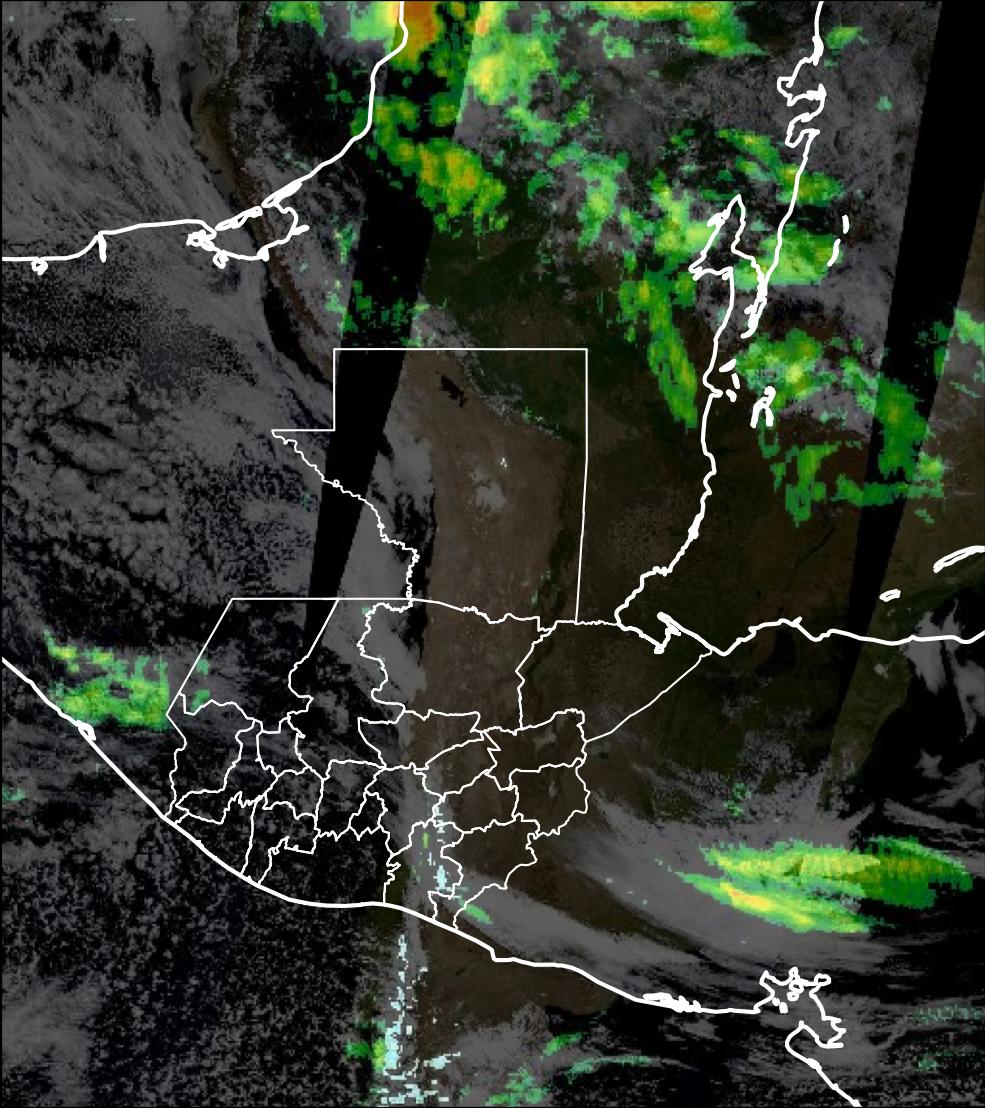precipitacion: (370, 1, 457, 80)
